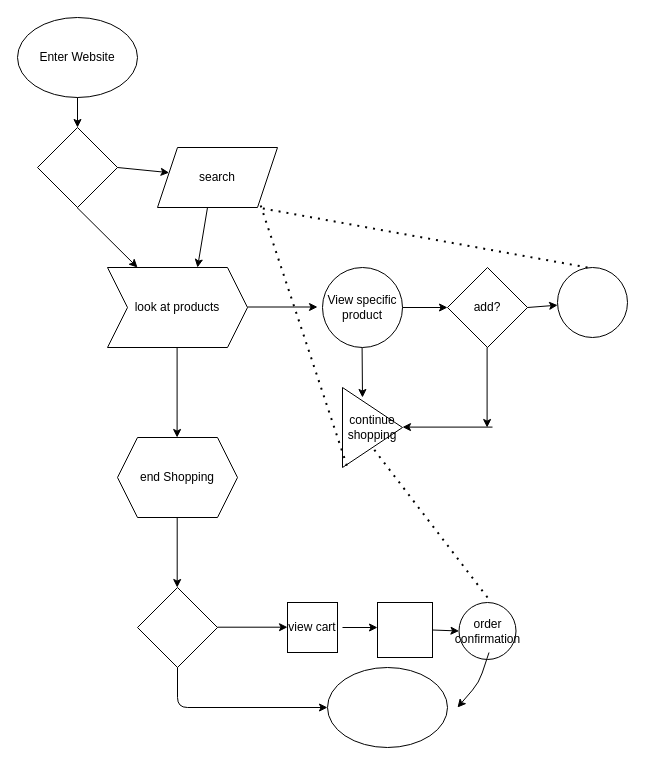
This 645x765 diagram has some shape labels left out. Here are the shapes that lost their labels. From the top down, the centre of each, then its label:
At point (77, 167): "choose search or explore".
At point (592, 302): "confirm".
At point (177, 627): "checkout?".
At point (404, 630): "view payment".
At point (387, 707): "leave website".
